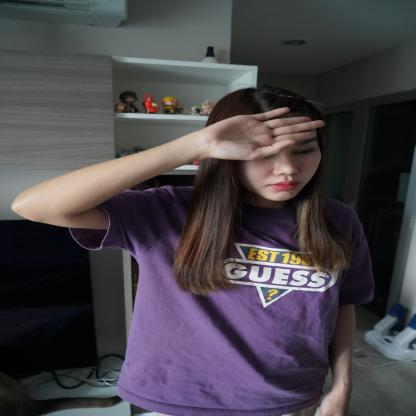Sick: (168, 106, 330, 160)
